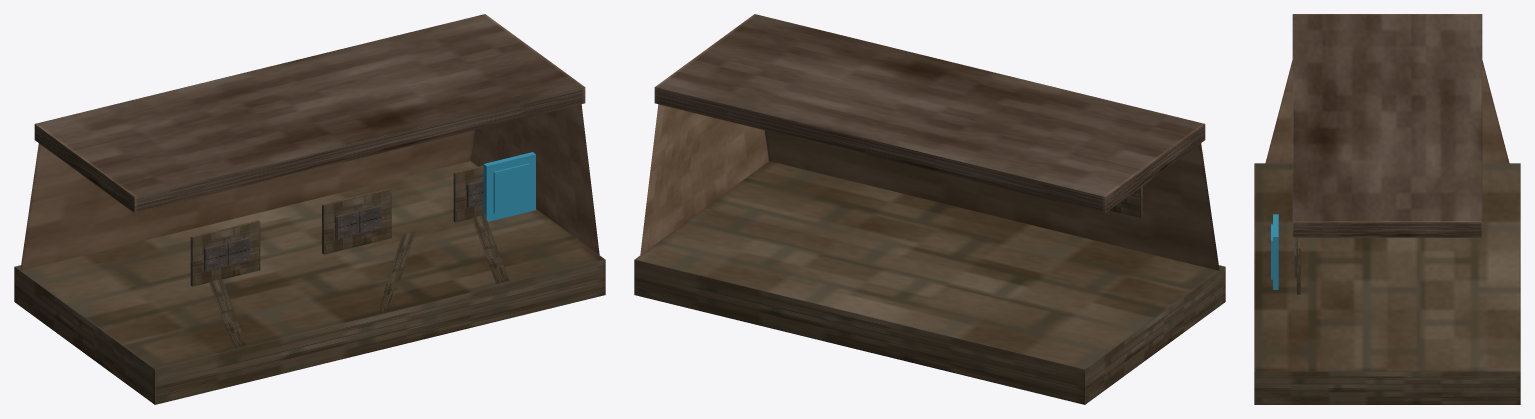
File: edificio-wall-e3-CR9YfhmX.glb
The picture shows the model from 3 angles, left to right: view 1: azimuth 30°, elevation 25°; view 2: azimuth 150°, elevation 25°; view 3: azimuth 270°, elevation 25°; orthographic projection. The views are drawn at different scales.
Visible parts, largest first — view 1: wall_body, team_color; view 2: wall_body; view 3: wall_body, team_color.
Boxes of the visible parts, <box> form: wall_body: <box>14,14,605,404</box>; team_color: <box>483,152,535,221</box>; wall_body: <box>634,14,1225,404</box>; wall_body: <box>1254,14,1520,404</box>; team_color: <box>1271,214,1278,289</box>.
Bounding box in the file's own units: 32 × 13.1 × 17.3.
2 materials, 1 textured.
